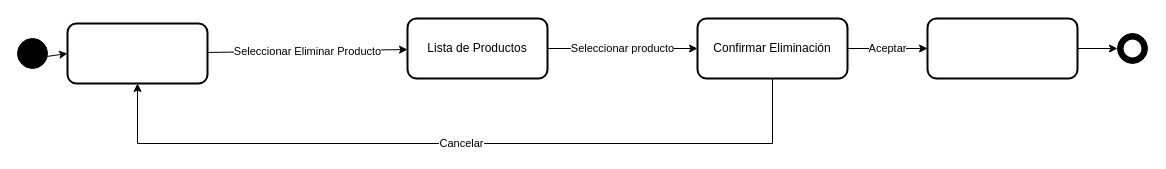
This 1166x169 diagram has some shape labels left out. Here are the shapes that lost their labels. From the top down, the centre of each, then its label:
point (137, 53): Pantalla Principal (Cajero)
point (1002, 48): Producto Eliminado
